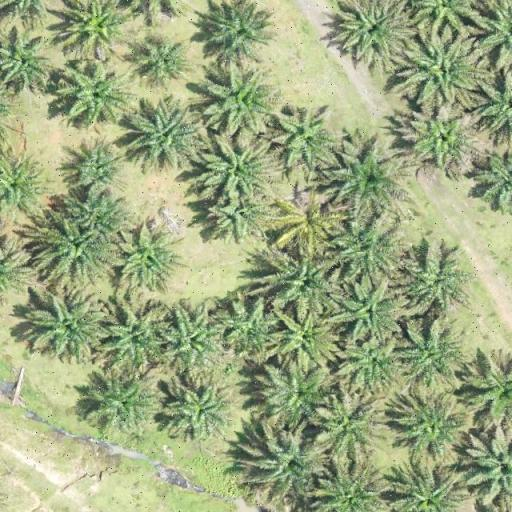Ganoderma: (284, 192, 342, 245)
